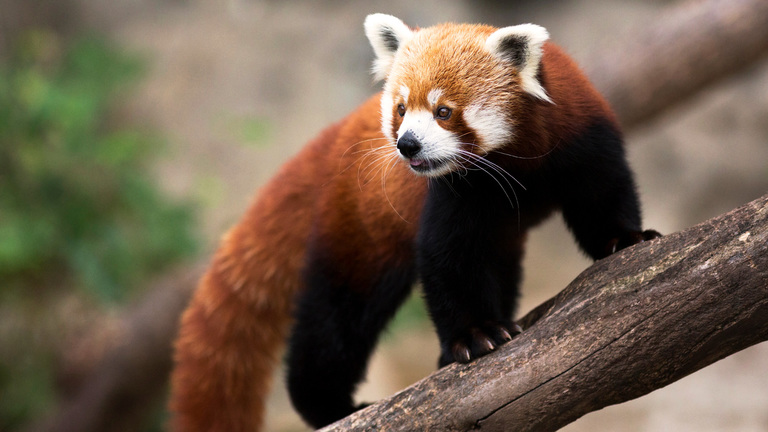Red panda: (360, 10, 551, 178)
